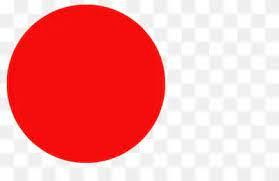red_circle: (0, 0, 175, 171)
